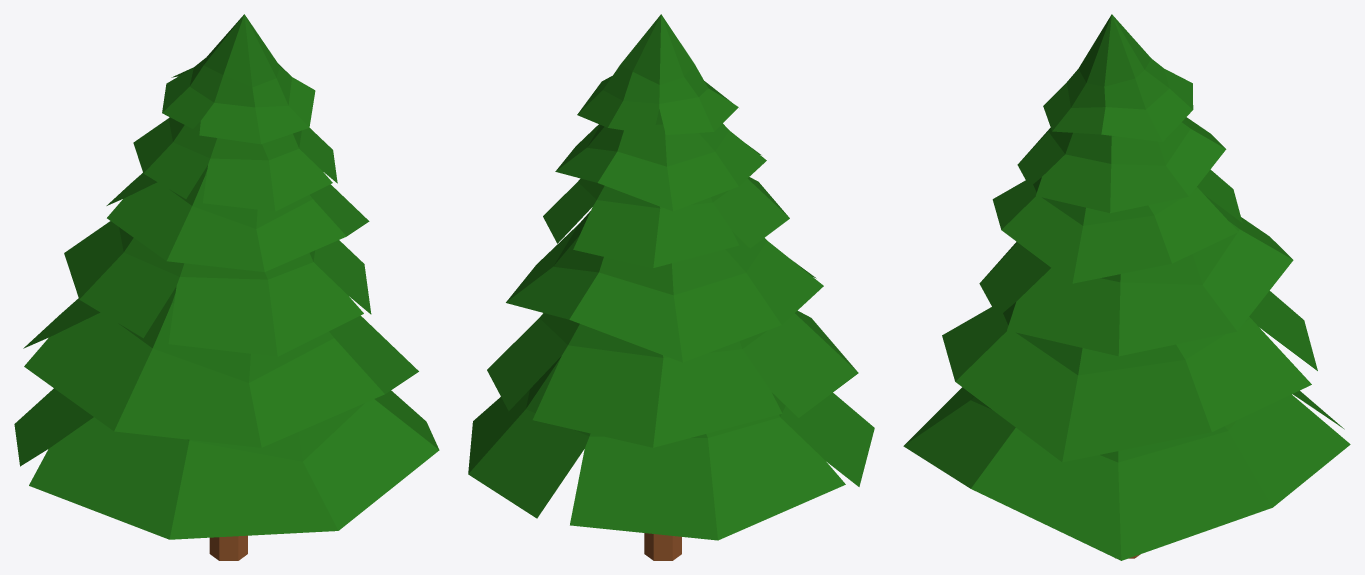
Rendered from Fir1.fbx.
3 views of the same model, side by side, from view 1: azimuth 30°, elevation 25°; view 2: azimuth 150°, elevation 25°; view 3: azimuth 270°, elevation 25° (orthographic).
Visible parts, largest first — view 1: Fir1; view 2: Fir1; view 3: Fir1.
Boxes of the visible parts, left/top/right/bottom form: Fir1: left=14, top=14, right=439, bottom=560; Fir1: left=468, top=14, right=874, bottom=560; Fir1: left=903, top=14, right=1350, bottom=560.
Size of the model in its own units: 4726 by 6196 by 4639.
